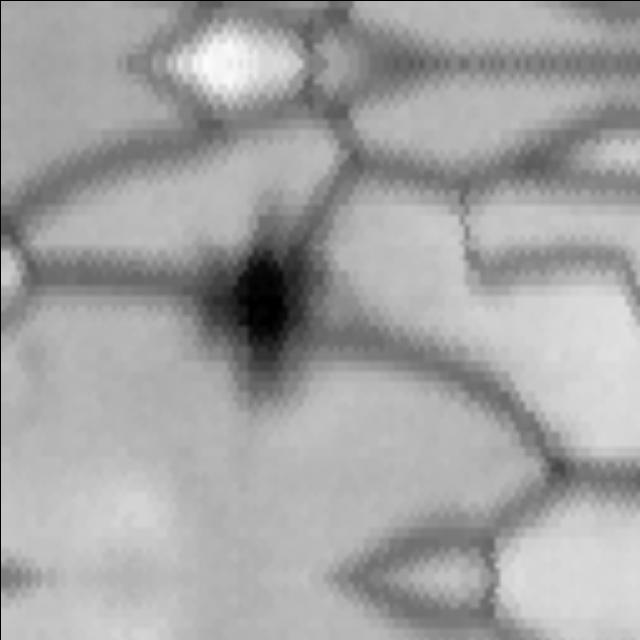good_void: (183, 200, 348, 425)
